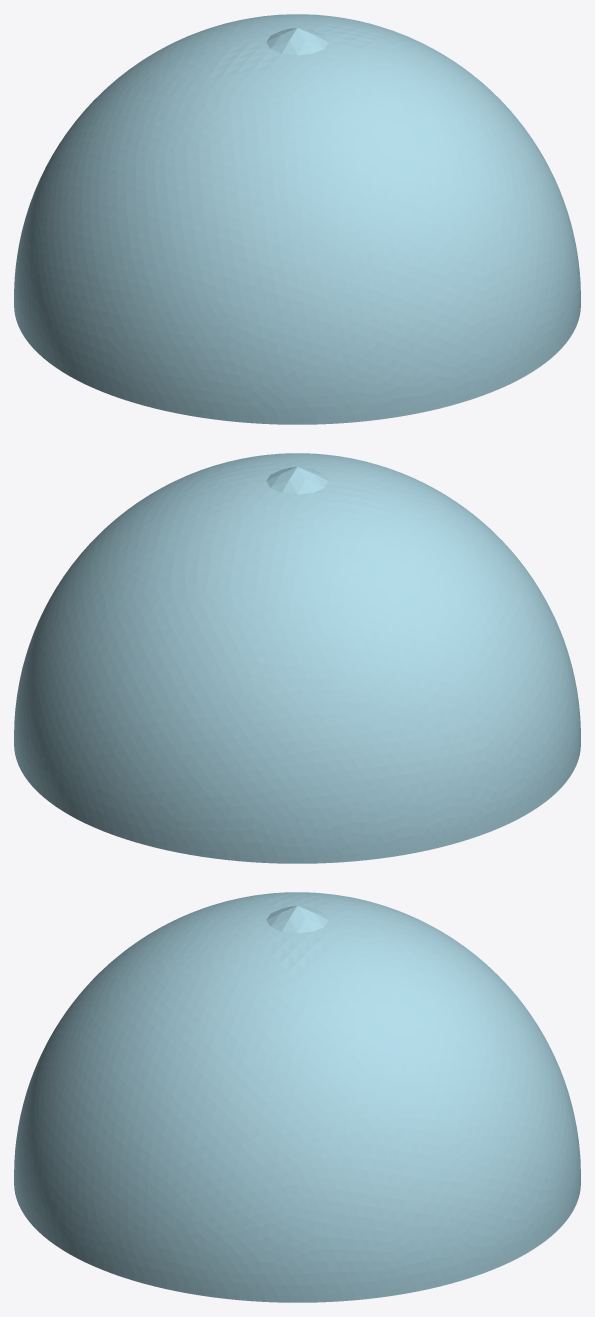
File: manual_lobules_dense.obj
3 views of the same model, one above another, from view 1: azimuth 30°, elevation 25°; view 2: azimuth 150°, elevation 25°; view 3: azimuth 270°, elevation 25° (orthographic).
Visible parts, largest first — view 1: grp1; view 2: grp1; view 3: grp1.
Part boxes in pixels (<box>): grp1: <box>14,14,580,424</box>; grp1: <box>14,453,580,863</box>; grp1: <box>14,892,580,1302</box>.
Size of the model in its own units: 0.14 by 0.0755 by 0.14.
